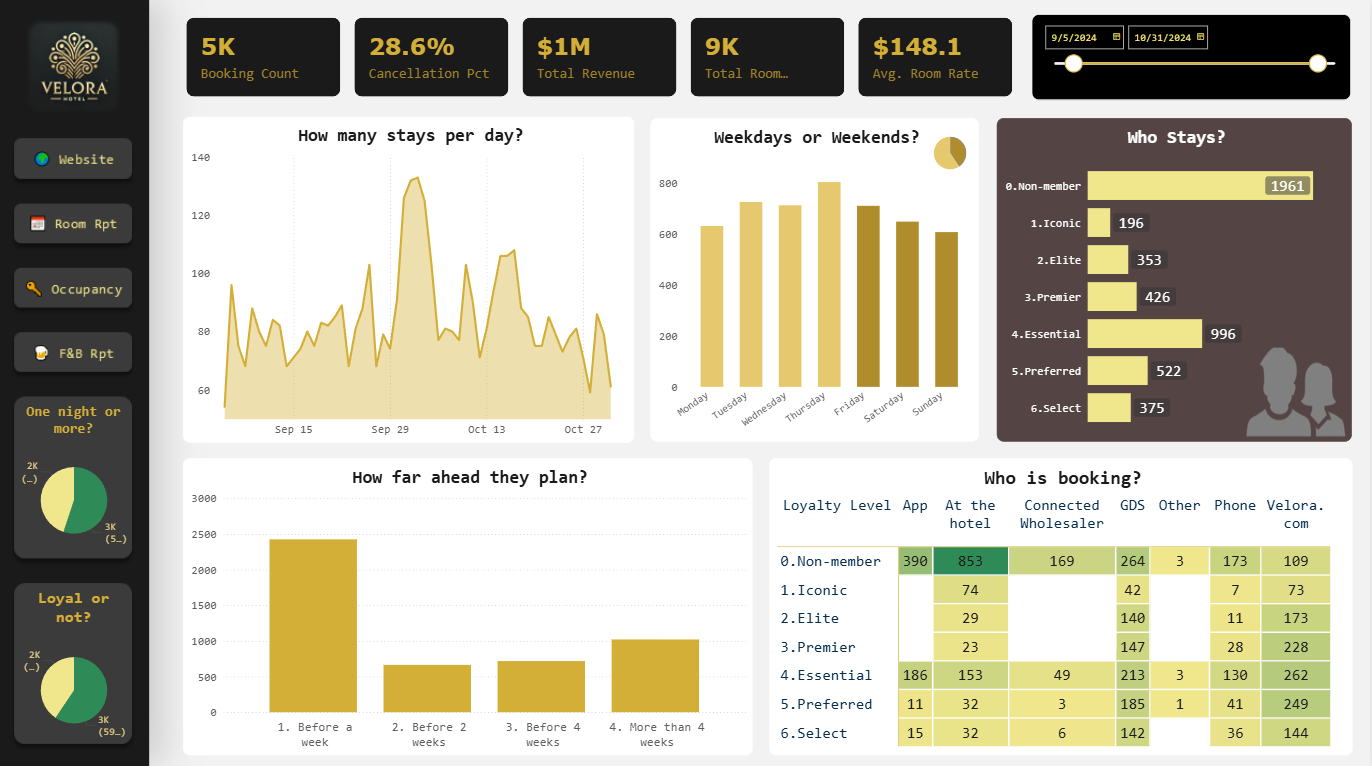

The page's visual inventory and layout, read from the dashboard file:
{"tool":"powerbi","page":{"name":"Hotel Booking","canvas":[1920,1080],"ordinal":0},"visuals":[{"type":"cardVisual","fields":{"Data":["bookings.Booking Count","bookings.Cancellation Pct","bookings.Total Revenue","bookings.Total Room Nights","bookings.Avg. Room Rate"]},"box":[258,22,1168,120],"z":0},{"type":"lineChart","title":"How many stays per day?","fields":{"Category":["bookings.Stay Date"],"Y":["bookings.Booking Count"]},"box":[259.4,165.6,631.2,456.2],"z":1000},{"type":"slicer","fields":{"Values":["bookings.Stay Date"]},"box":[1446.7,23.3,446.7,120],"z":2000},{"type":"clusteredColumnChart","title":"Weekdays or Weekends?","fields":{"Y":["bookings.Booking Count"],"Category":["bookings.Day Name"]},"box":[912.5,168.8,459.4,453.1],"z":3000},{"type":"clusteredBarChart","title":"Who Stays?","fields":{"Category":["bookings.Loyalty Level"],"Y":["bookings.Booking Count"]},"box":[1396.9,168.8,496.9,453.1],"z":4000},{"type":"clusteredColumnChart","title":"How far ahead they plan?","fields":{"Category":["bookings.How far away bucket"],"Y":["bookings.Booking Count"]},"box":[259.4,643.8,796.9,415.6],"z":5000},{"type":"pivotTable","title":"Who is booking?","fields":{"Rows":["bookings.Loyalty Level"],"Columns":["bookings.Booking Channel"],"Values":["bookings.Booking Count"]},"box":[1078.5,644.7,815.9,415],"z":6000},{"type":"pieChart","title":"One night or more?","fields":{"Y":["bookings.Multi-night booking count","bookings.Single night booking count"]},"box":[19.5,556.1,168.3,236.6],"z":7000},{"type":"pieChart","title":"Loyal or not?","fields":{"Y":["bookings.Loyal Customer Booking Count","bookings.Not Loyal Customer Booking Count"]},"box":[19.5,814.6,168.3,243.9],"z":8000},{"type":"pieChart","fields":{"Y":["bookings.Weekend Bookings","bookings.Weekday Bookings"]},"box":[1294.1,183.8,66.2,67.6],"z":9000}]}

Visuals, with their boxes in screenshot pixels (x1, y1, x2, y2), scaled from the page's 1920x1080 canvas onto the 1372x766 screenshot:
cardVisual - bookings.Booking Count x bookings.Cancellation Pct: 184,16,1019,101
"How many stays per day?" lineChart: 185,117,636,441
slicer - bookings.Stay Date: 1034,17,1353,102
"Weekdays or Weekends?" clusteredColumnChart: 652,120,980,441
"Who Stays?" clusteredBarChart: 998,120,1353,441
"How far ahead they plan?" clusteredColumnChart: 185,457,755,751
"Who is booking?" pivotTable: 771,457,1354,752
"One night or more?" pieChart: 14,394,134,562
"Loyal or not?" pieChart: 14,578,134,751
pieChart - bookings.Weekend Bookings x bookings.Weekday Bookings: 925,130,972,178
